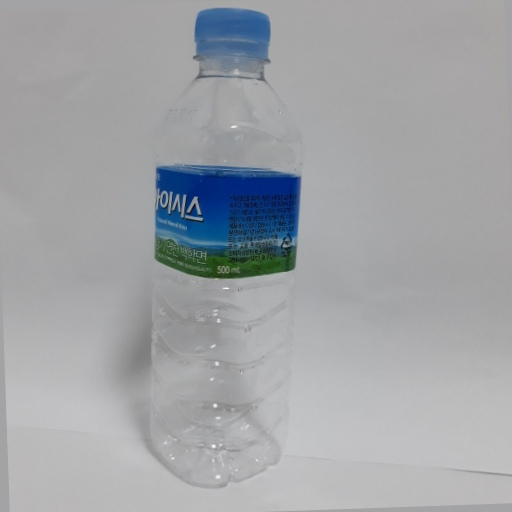Plastic_0: (144, 7, 307, 487)
